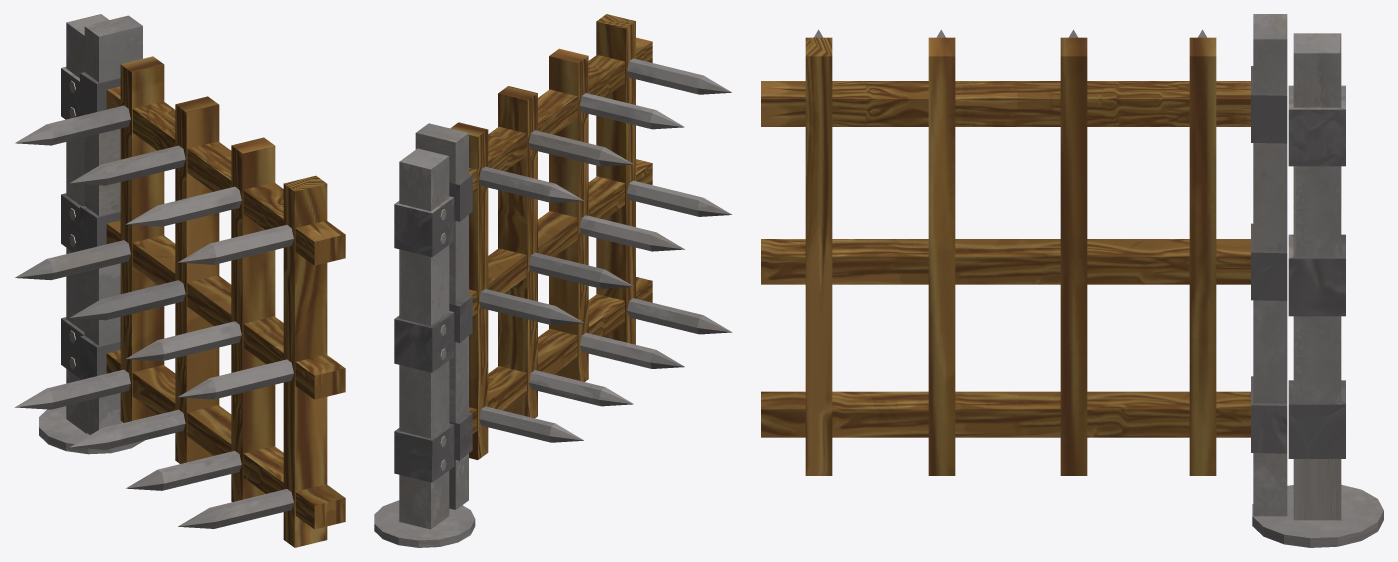
The model's file is SideSpikes.fbx.
3 renders of one model, left to right at view 1: azimuth 30°, elevation 25°; view 2: azimuth 150°, elevation 25°; view 3: azimuth 270°, elevation 25°, orthographic. The views are drawn at different scales.
Parts seen in each view (by area): view 1: Cone, Cube.011; view 2: Cone, Cube.011; view 3: Cone, Cube.011.
Boxes of the visible parts, x1,y1,x2,y2 form: Cone: (15,15,345,547); Cube.011: (39,14,144,454); Cone: (415,14,732,509); Cube.011: (374,148,475,547); Cone: (761,14,1287,516); Cube.011: (1252,33,1383,547).
Bounding box in the file's own units: 0.9126 × 2.07 × 2.37.
